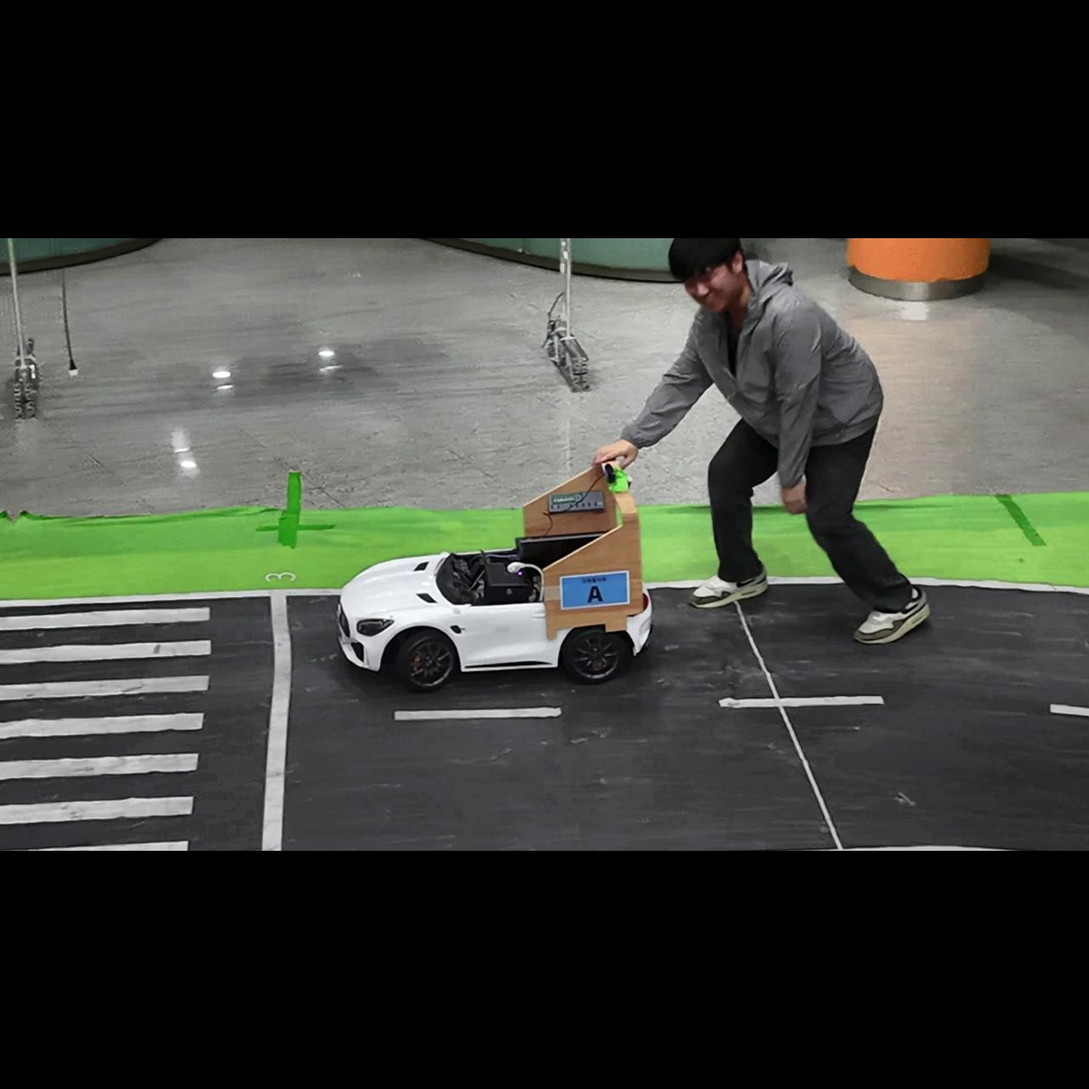broken_line: (394, 707, 562, 721), (718, 696, 885, 708), (1050, 703, 1088, 717)
crosswalk: (0, 607, 211, 850)
